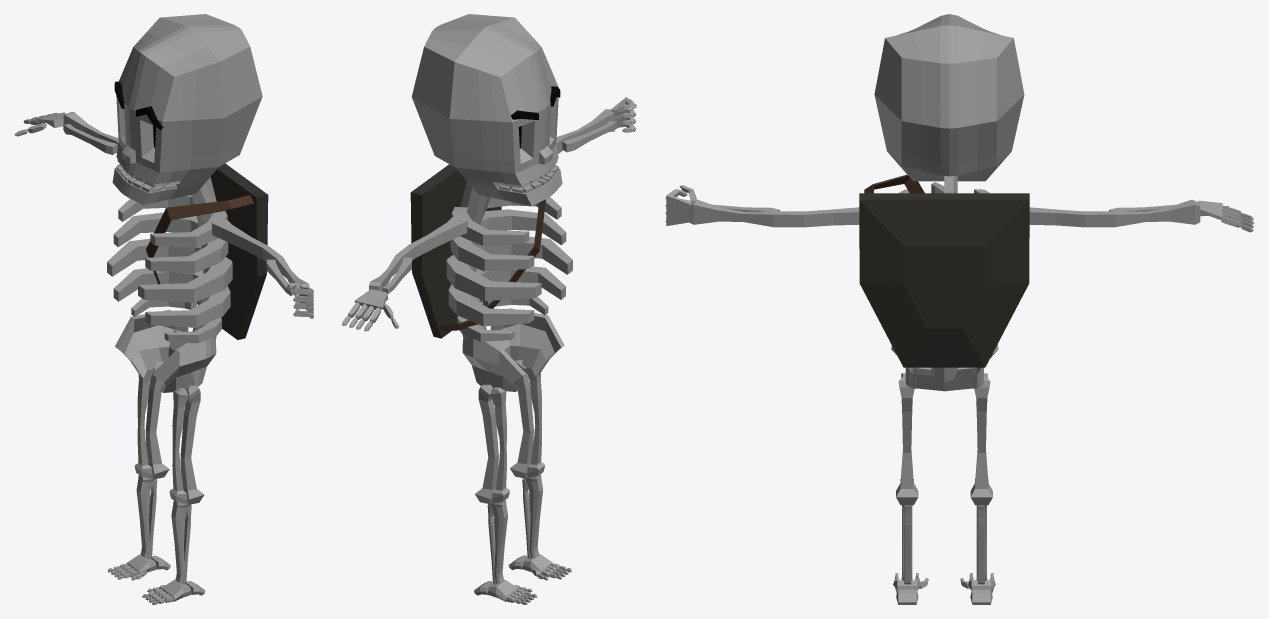
The model's file is Skelet.fbx.
The picture shows the model from 3 angles, left to right: view 1: azimuth 30°, elevation 25°; view 2: azimuth 150°, elevation 25°; view 3: azimuth 270°, elevation 25°; orthographic projection. The views are drawn at different scales.
Parts seen in each view (by area): view 1: Cube.182; view 2: Cube.182; view 3: Cube.182.
Part boxes in pixels (x1,y1,x2,y2): Cube.182: (15, 14, 313, 604); Cube.182: (342, 14, 636, 604); Cube.182: (665, 14, 1254, 604).
Bounding box in the file's own units: 115 × 455 × 415.
